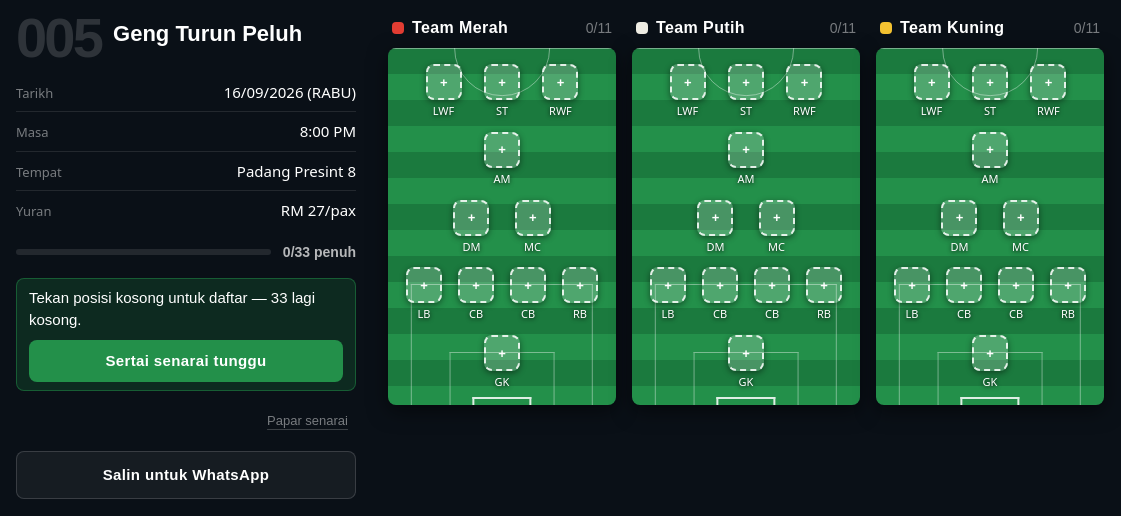
Test case: SessionPage › toggles between pitch and list view
The image size is (1121, 516).
Click the button "Papar senarai" at x=308, y=421, box [259,407,356,435]
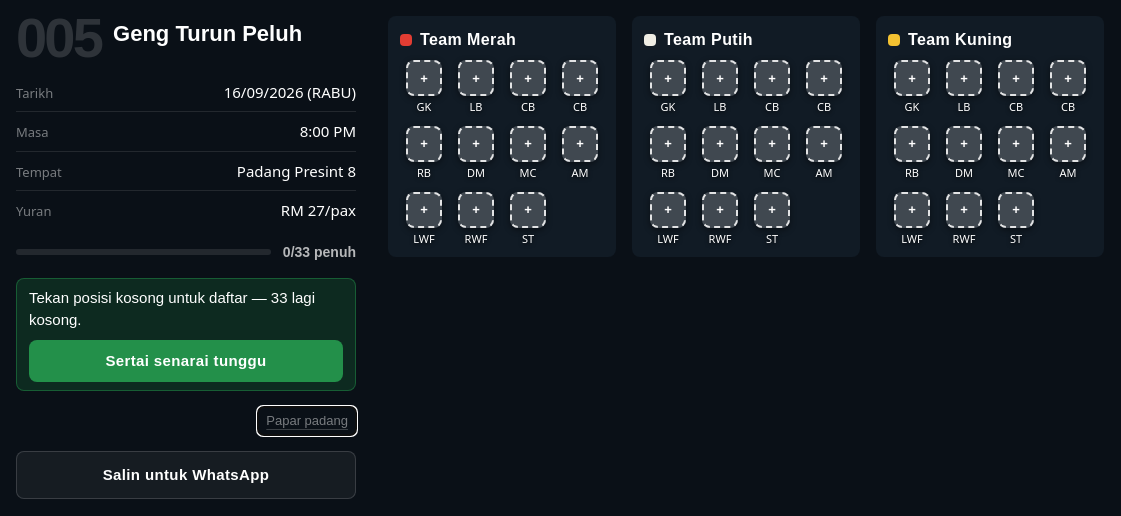
Expected: the button "Papar padang" is shown, [258,407,356,435]
